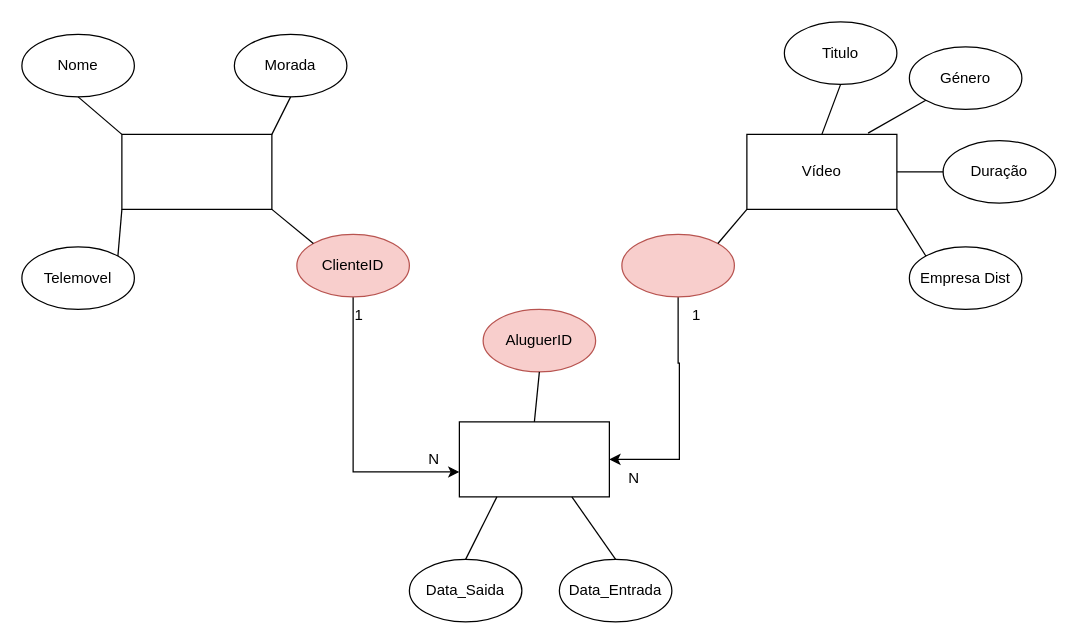
This 1078x644 diagram has some shape labels left out. Here are the shapes that lost their labels. From the top down, the box of each, then its label:
(121, 133, 272, 209): Cliente
(621, 233, 734, 297): VideoID
(458, 421, 609, 497): Aluguer
